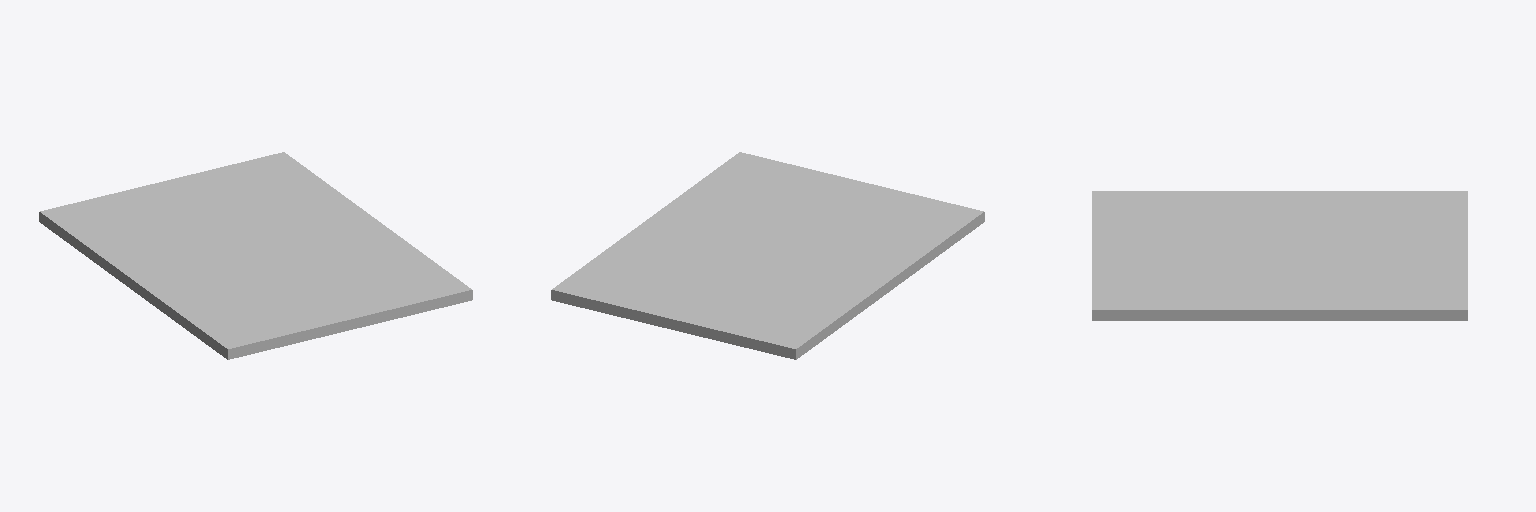
Rendered from Plate4_6x8.obj.
The picture shows the model from 3 angles: view 1: azimuth 30°, elevation 25°; view 2: azimuth 150°, elevation 25°; view 3: azimuth 270°, elevation 25°; orthographic projection.
Parts seen in each view (by area): view 1: Plate4_6x8_Cube.349; view 2: Plate4_6x8_Cube.349; view 3: Plate4_6x8_Cube.349.
Boxes of the visible parts, x1=… form: Plate4_6x8_Cube.349: x1=39, y1=152, x2=472, y2=359; Plate4_6x8_Cube.349: x1=551, y1=152, x2=984, y2=359; Plate4_6x8_Cube.349: x1=1092, y1=191, x2=1467, y2=320.
Size of the model in its own units: 6 by 0.25 by 8.